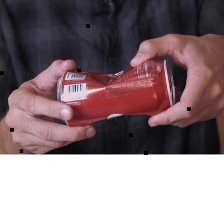can: (54, 54, 178, 131)
